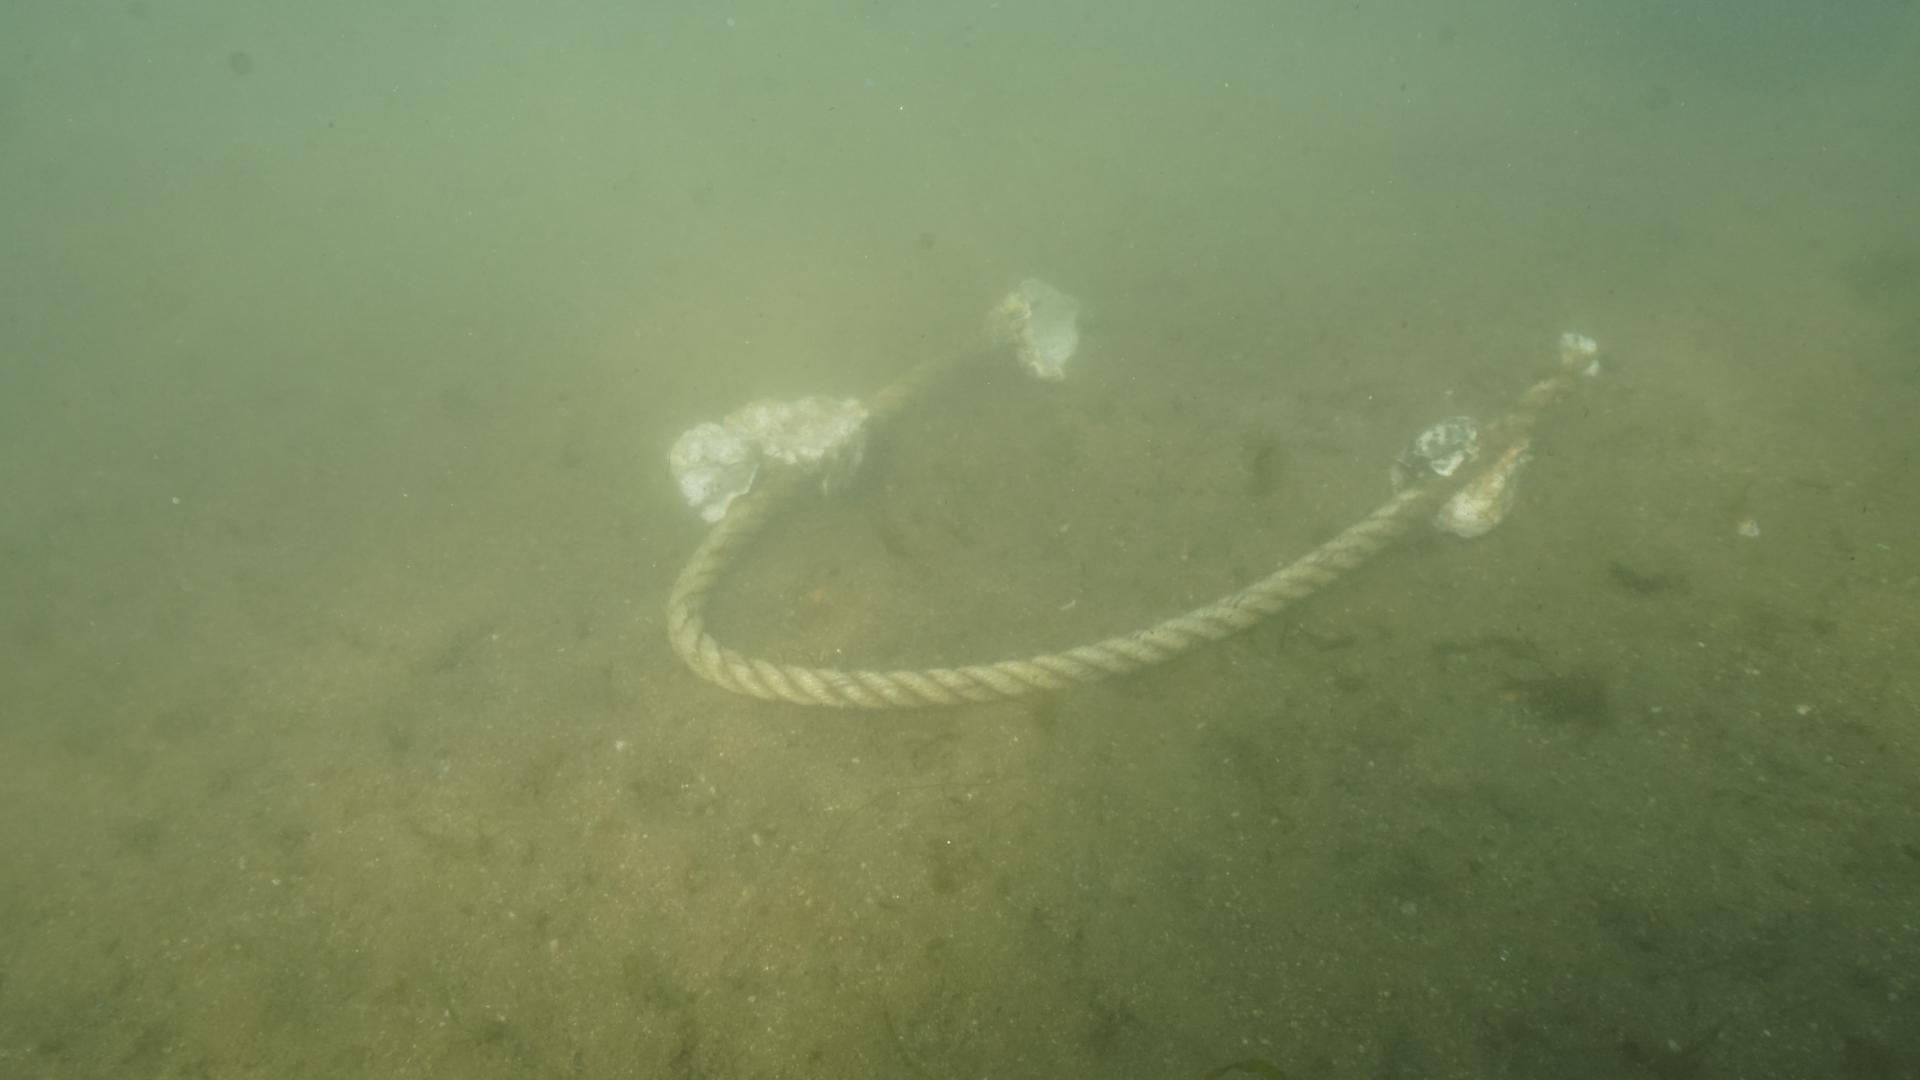rope: (662, 301, 1606, 711)
